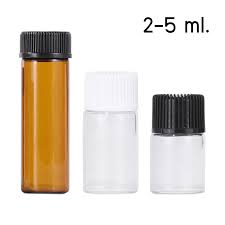glass_bottle: (14, 28, 75, 198), (80, 67, 142, 199), (149, 92, 209, 198)
